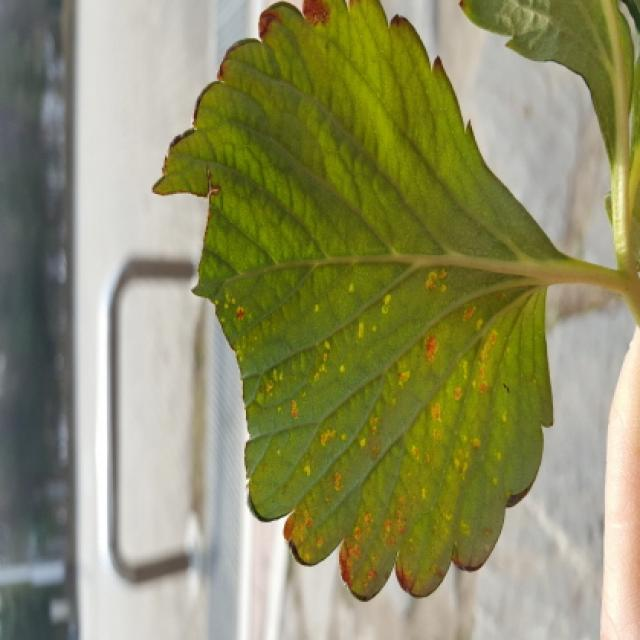Angular Leafspot: (209, 260, 542, 606)
